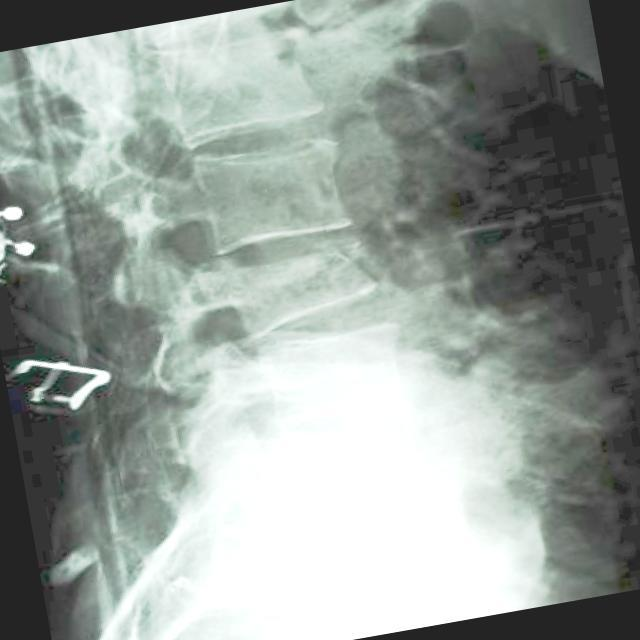Impact Fracture: (210, 256, 379, 324)
